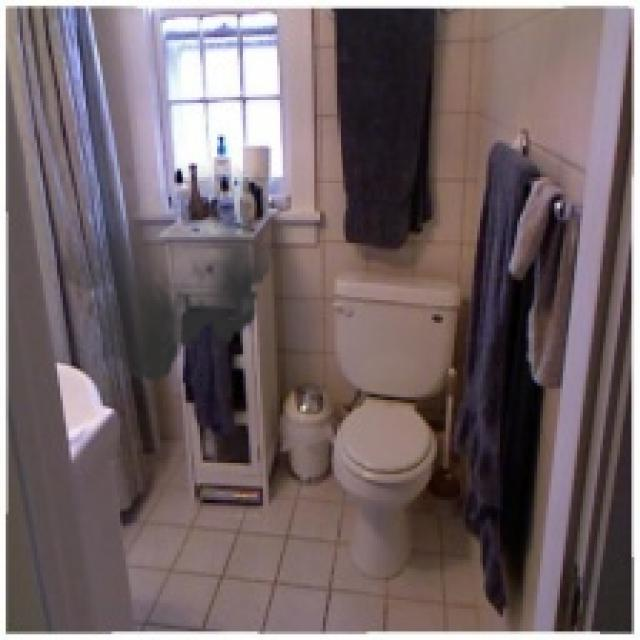Smoke: (54, 154, 277, 392)
